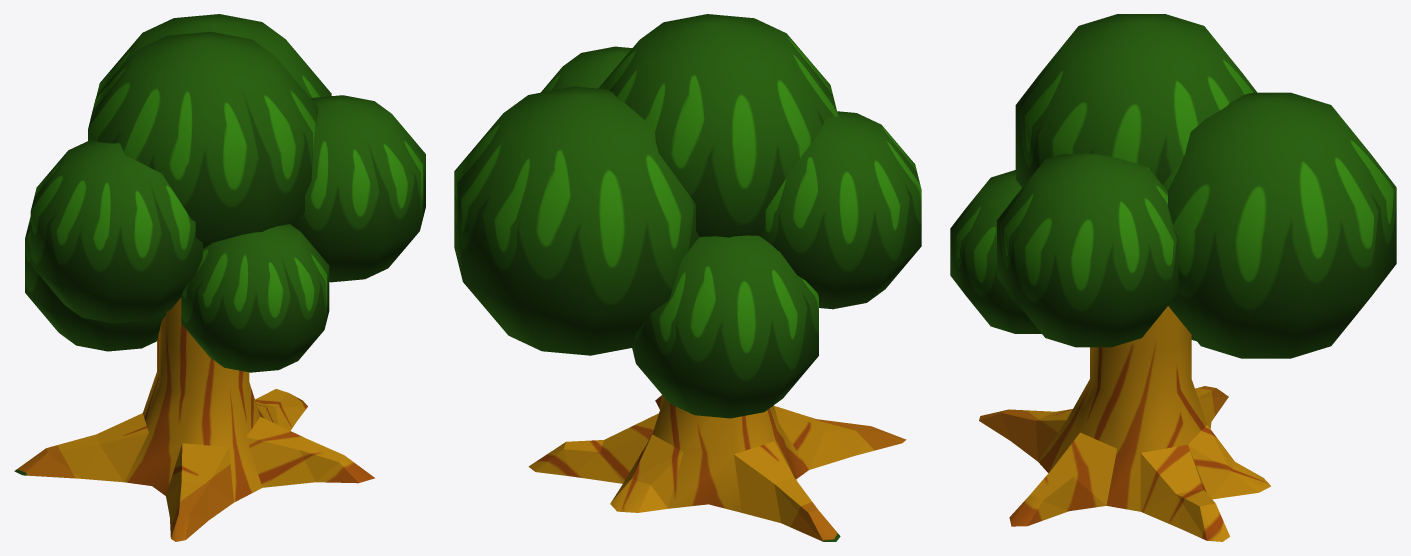
The model's file is Tree.FBX.
The picture shows the model from 3 angles, left to right: view 1: azimuth 30°, elevation 25°; view 2: azimuth 150°, elevation 25°; view 3: azimuth 270°, elevation 25°; orthographic projection. The views are drawn at different scales.
Parts seen in each view (by area): view 1: Tree; view 2: Tree; view 3: Tree.
Boxes of the visible parts, x1=… form: Tree: x1=14, y1=14, x2=425, y2=541; Tree: x1=454, y1=14, x2=921, y2=541; Tree: x1=950, y1=14, x2=1396, y2=541.
Bounding box in the file's own units: 8.59 × 9.75 × 8.78.
Materials: 1 (1 with a texture image).
